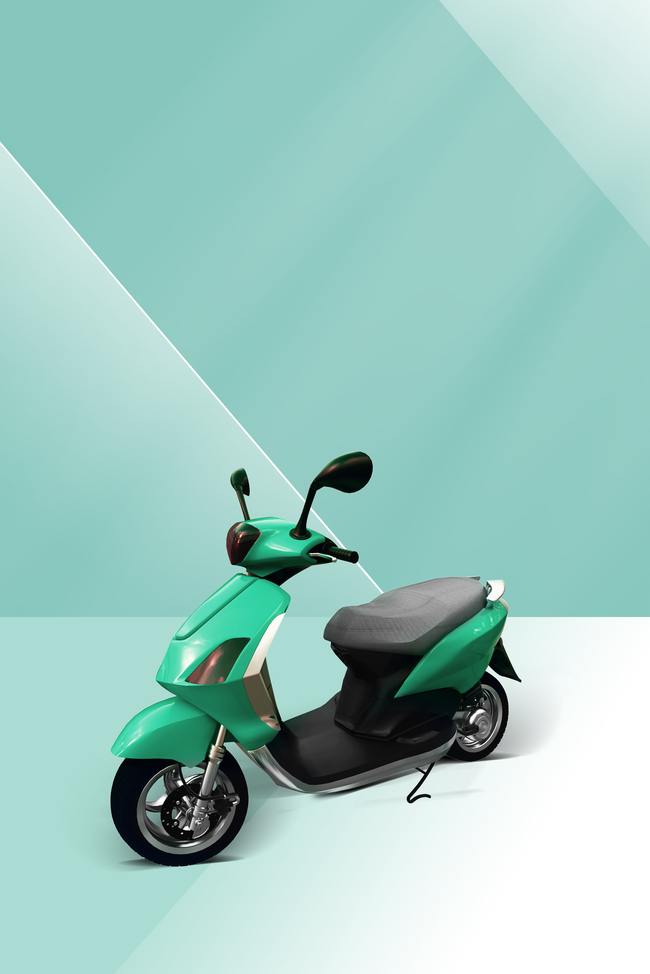MNV: (108, 452, 521, 863)
